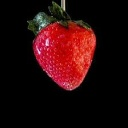strawberry: (29, 11, 98, 93)
